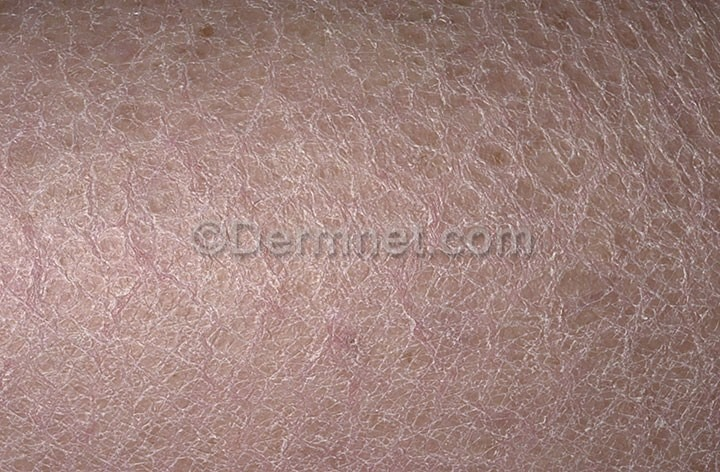Eczema: (1, 1, 720, 471)
